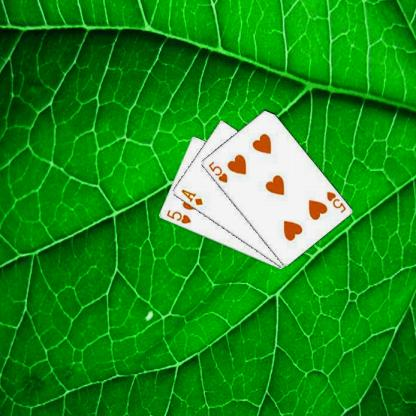5H: (324, 189, 347, 214), (206, 159, 228, 184), (164, 207, 192, 225)
AD: (178, 186, 204, 207)
